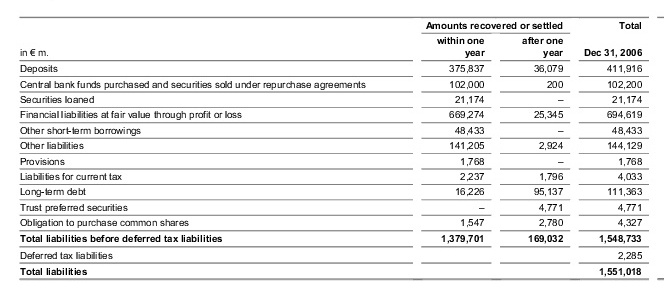table: (0, 0, 664, 300)
